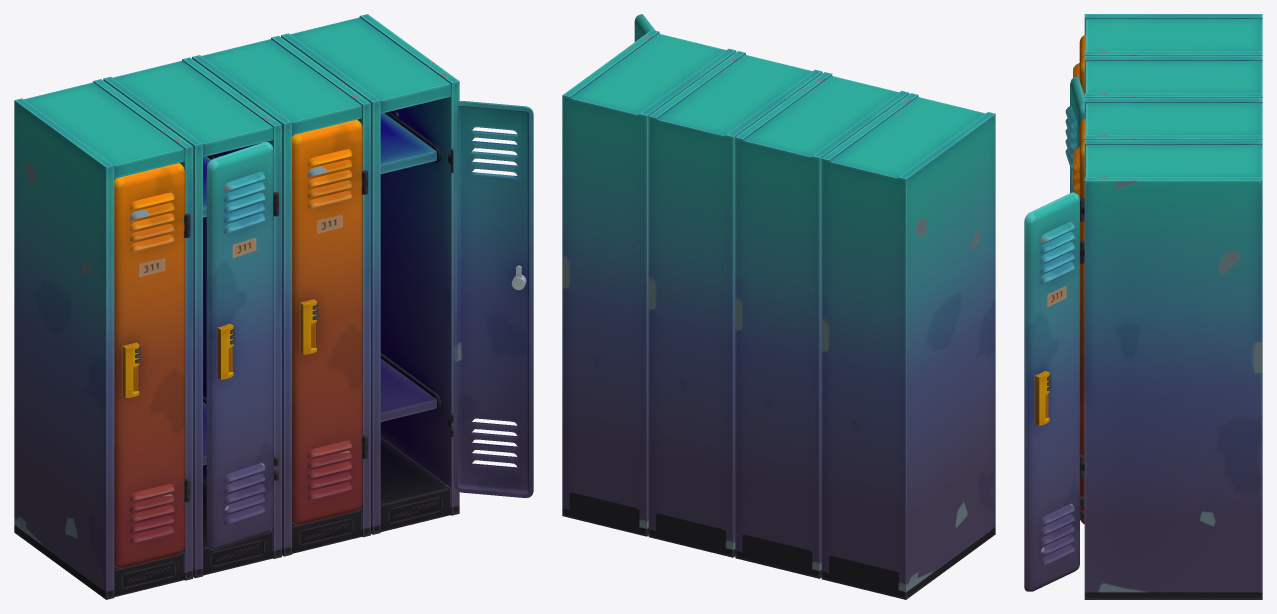
File: metal_lockers.glb
The picture shows the model from 3 angles, left to right: view 1: azimuth 30°, elevation 25°; view 2: azimuth 150°, elevation 25°; view 3: azimuth 270°, elevation 25°; orthographic projection. The views are drawn at different scales.
Parts seen in each view (by area): view 1: Locker.002_Material_0, Locker.007_Material_0, DoorBlue.003_Material_0, DoorOrange.001_Material_0, DoorOrange.003_Material_0, DoorBlue.001_Material_0, Locker.003_Material_0, Locker.006_Material_0; view 2: Locker.002_Material_0, Locker.006_Material_0, Locker.003_Material_0, Locker.007_Material_0; view 3: Locker.007_Material_0, DoorBlue.003_Material_0, Locker.006_Material_0, Locker.003_Material_0, Locker.002_Material_0, DoorOrange.003_Material_0, DoorBlue.001_Material_0, DoorOrange.001_Material_0.
Boxes of the visible parts, <box> form: Locker.002_Material_0: <box>14,79,193,599</box>; Locker.007_Material_0: <box>281,14,459,534</box>; DoorBlue.003_Material_0: <box>450,101,533,497</box>; DoorOrange.001_Material_0: <box>114,163,190,568</box>; DoorOrange.003_Material_0: <box>292,119,367,524</box>; DoorBlue.001_Material_0: <box>206,142,278,550</box>; Locker.003_Material_0: <box>103,57,281,578</box>; Locker.006_Material_0: <box>192,35,370,556</box>; Locker.002_Material_0: <box>821,93,995,599</box>; Locker.006_Material_0: <box>648,51,822,557</box>; Locker.003_Material_0: <box>735,72,909,578</box>; Locker.007_Material_0: <box>562,30,736,536</box>; Locker.007_Material_0: <box>1080,140,1262,599</box>; DoorBlue.003_Material_0: <box>1024,192,1084,591</box>; Locker.006_Material_0: <box>1080,98,1262,214</box>; Locker.003_Material_0: <box>1084,56,1262,97</box>; Locker.002_Material_0: <box>1084,14,1262,55</box>; DoorOrange.003_Material_0: <box>1073,119,1085,524</box>; DoorBlue.001_Material_0: <box>1065,76,1084,192</box>; DoorOrange.001_Material_0: <box>1073,35,1085,94</box>.
Bounding box in the file's own units: 2.09 × 2.16 × 1.11.
Materials: 1 (1 with a texture image).
